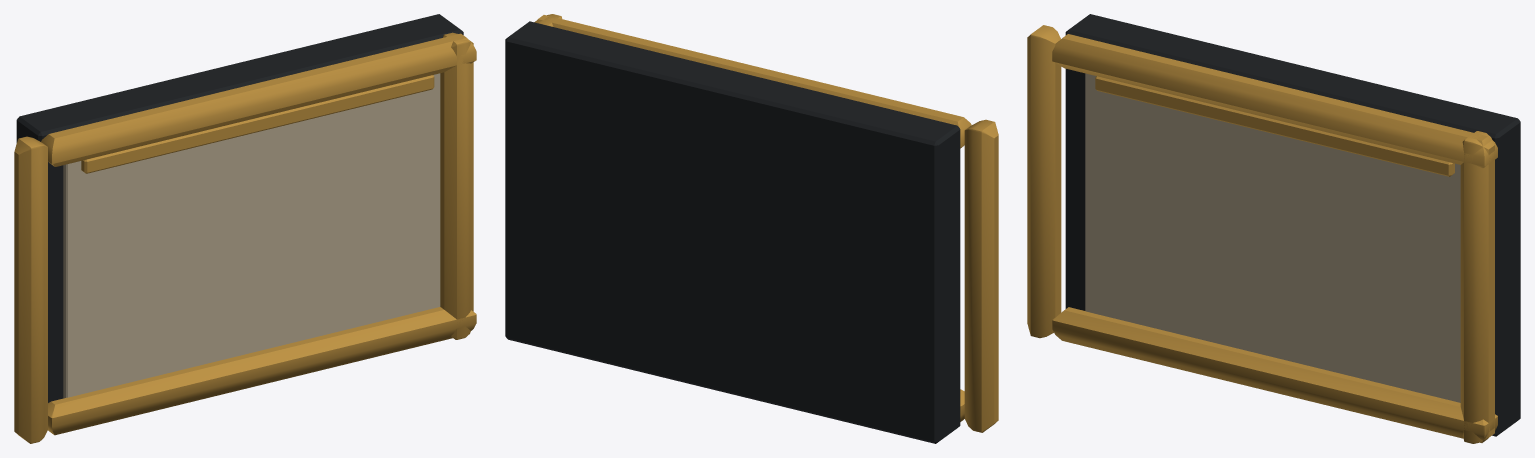
The model's file is BarLightbox.obj.
The picture shows the model from 3 angles, left to right: view 1: azimuth 30°, elevation 25°; view 2: azimuth 150°, elevation 25°; view 3: azimuth 330°, elevation 25°; orthographic projection.
Parts seen in each view (by area): view 1: back-bar-lightbox_2, back-bar-lightbox_1, back-bar-lightbox_0; view 2: back-bar-lightbox_0, back-bar-lightbox_1; view 3: back-bar-lightbox_2, back-bar-lightbox_1, back-bar-lightbox_0.
Boxes of the visible parts, box(x1,y1,x2,y2) form: back-bar-lightbox_2: box(63, 73, 440, 398); back-bar-lightbox_1: box(14, 32, 476, 443); back-bar-lightbox_0: box(16, 14, 463, 402); back-bar-lightbox_0: box(505, 21, 960, 443); back-bar-lightbox_1: box(534, 14, 998, 432); back-bar-lightbox_2: box(1085, 73, 1460, 402); back-bar-lightbox_1: box(1027, 25, 1497, 443); back-bar-lightbox_0: box(1065, 14, 1520, 436).
Size of the model in its own units: 0.96 by 0.6 by 0.135.
